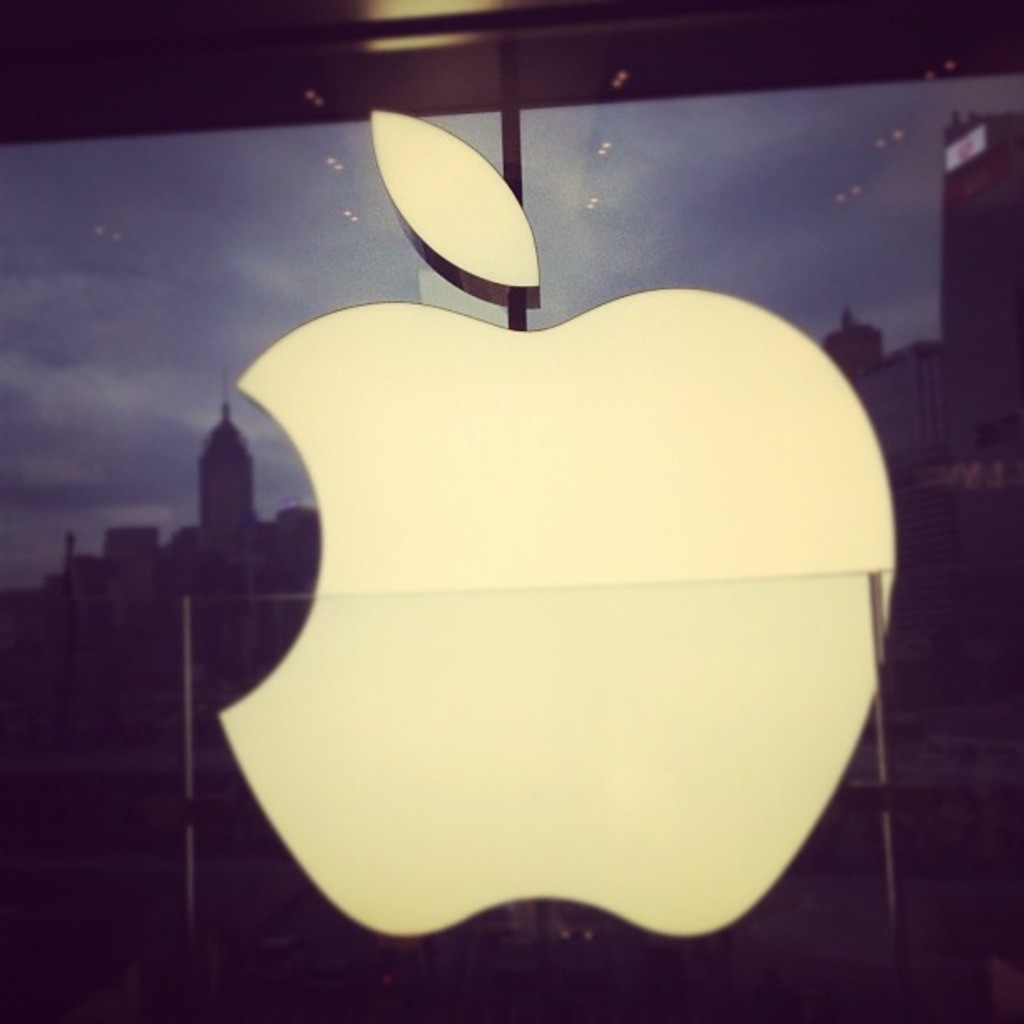Apple: (140, 252, 824, 988)
